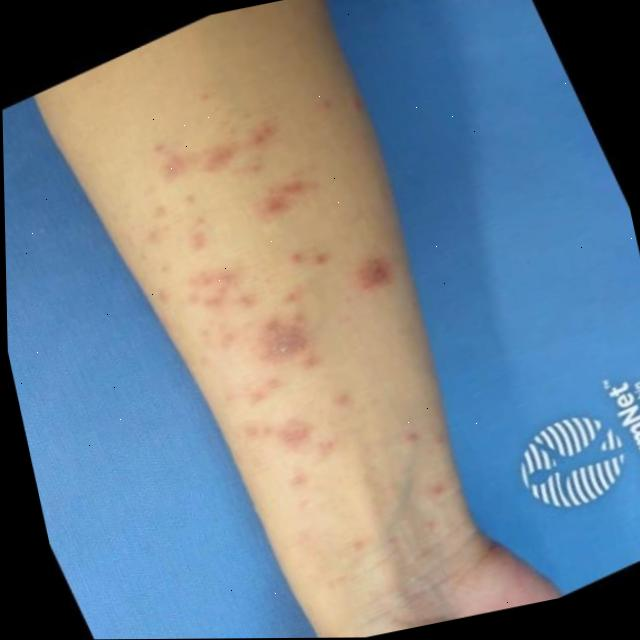Eczema: (148, 128, 406, 459)
